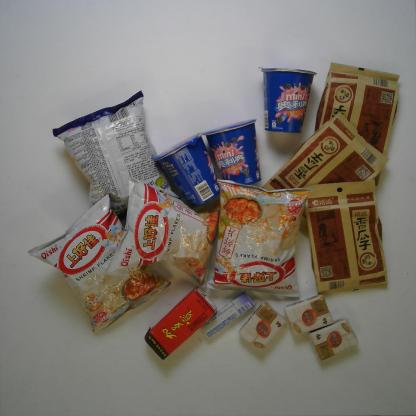Candy: (199, 290, 260, 343)
Dessert: (152, 130, 225, 210), (200, 115, 264, 190), (256, 62, 319, 136)
Dried Food: (262, 106, 394, 219), (299, 177, 395, 298), (314, 56, 400, 186)
Drink: (144, 288, 219, 360)
Puffed Food: (24, 192, 174, 338), (53, 87, 178, 218), (206, 173, 314, 303), (105, 175, 221, 289)
Tissue: (236, 300, 288, 354), (283, 291, 335, 339), (308, 318, 361, 362)
